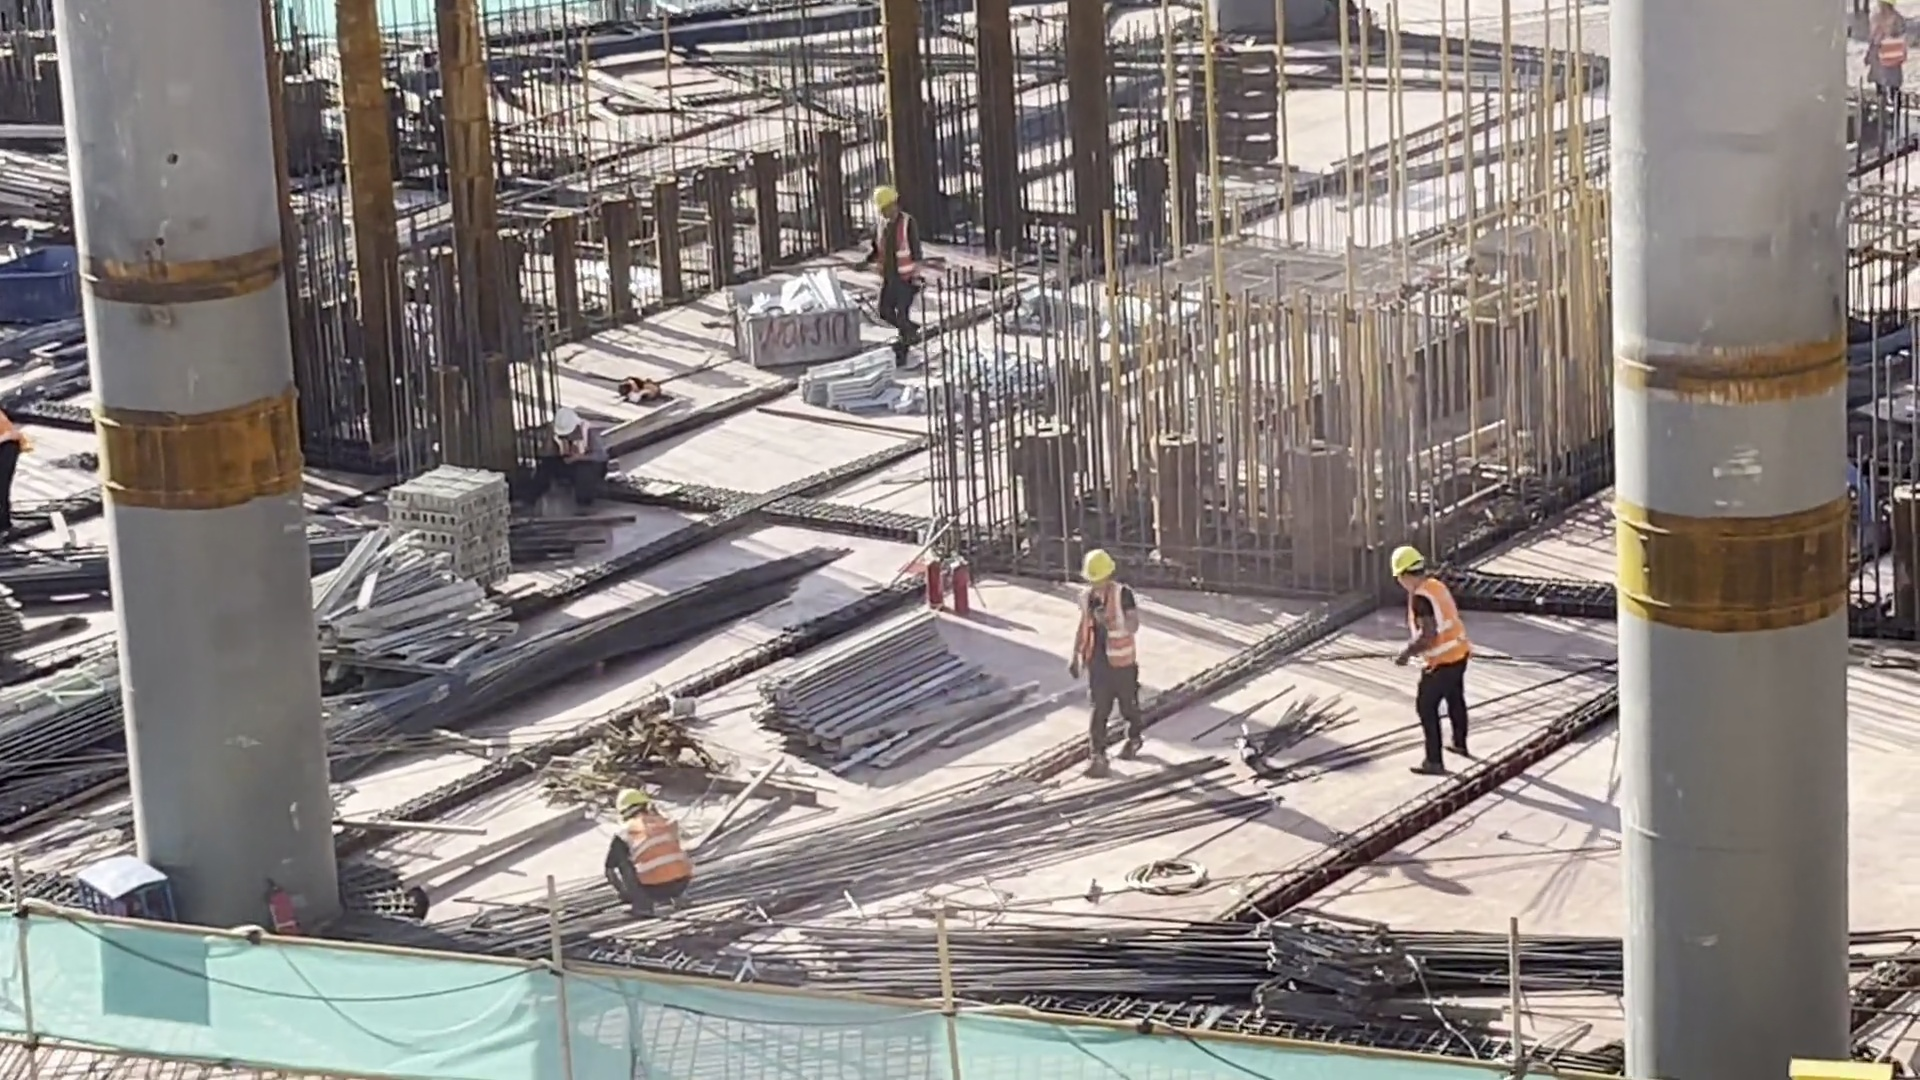helmet: (545, 405, 581, 442), (615, 781, 650, 807), (1390, 544, 1419, 574), (876, 179, 901, 211), (1085, 555, 1109, 574)
person: (1386, 535, 1478, 778), (1066, 541, 1154, 784), (595, 780, 685, 912), (847, 182, 917, 331), (533, 402, 612, 512), (1857, 1, 1914, 122)
vest: (1394, 579, 1468, 668), (1065, 592, 1146, 668), (620, 816, 692, 887), (874, 220, 909, 263)
